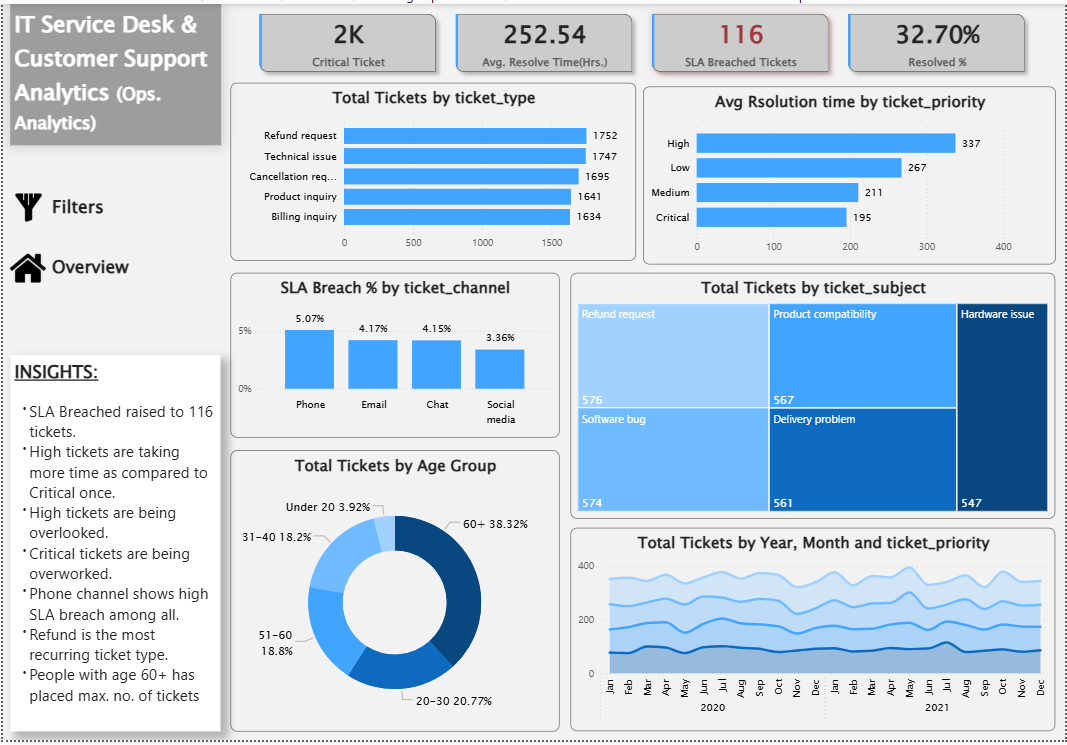

What the dashboard file says about the page in this screenshot:
{"tool":"powerbi","page":{"name":"Operational Analytics","canvas":[1300,900],"ordinal":1},"visuals":[{"type":"textbox","box":[8.8,0,257.9,172.9],"z":0},{"type":"cardVisual","fields":{"Data":["Measure_table.Critical Ticket","Measure_table.Avg Rsolution time","Measure_table.SLA Beached Tickets","Measure_table.Resolved %"]},"box":[277.2,0,1010.9,100.5],"z":1000},{"type":"clusteredBarChart","fields":{"Category":["cleaning_customer_support_tickets_v2.ticket_type"],"Y":["Measure_table.Total Tickets"]},"box":[278.5,96.5,495.9,217.4],"z":2000},{"type":"barChart","fields":{"Category":["cleaning_customer_support_tickets_v2.ticket_priority"],"Y":["Measure_table.Avg Rsolution time"]},"box":[782.7,100.7,505,217.8],"z":3000},{"type":"clusteredColumnChart","fields":{"Category":["cleaning_customer_support_tickets_v2.ticket_channel"],"Y":["Measure_table.SLA Breach %"]},"box":[278.2,328.6,402,201.8],"z":4000},{"type":"stackedAreaChart","fields":{"Category":["Date_Table.Year","Date_Table.Month"],"Series":["cleaning_customer_support_tickets_v2.ticket_priority"],"Y":["Measure_table.Total Tickets"]},"box":[694,640.5,593.1,249.2],"z":5000},{"type":"image","box":[7.6,227.8,47.4,42.8],"z":6000},{"type":"donutChart","fields":{"Category":["cleaning_customer_support_tickets_v2.Agr Group"],"Y":["Measure_table.Total Tickets"]},"box":[278.2,545.7,402,343.9],"z":7000},{"type":"treemap","fields":{"Group":["cleaning_customer_support_tickets_v2.ticket_subject"],"Values":["Measure_table.Total Tickets"]},"box":[694,328.6,593.1,301.1],"z":8000},{"type":"textbox","box":[9.2,429.5,256.8,460.1],"z":9000},{"type":"image","box":[7.6,301.1,45.9,44.3],"z":11000},{"type":"textbox","box":[55,227.8,210.9,42.8],"z":12000},{"type":"textbox","box":[55,301.1,210.9,44.3],"z":13000}]}

Visuals, with their boxes on the page's 1300x900 design canvas (x1, y1, x2, y2). These are canvas units, not pixel positions in the 1067x745 screenshot, which may show the page scaled, cropped or inside an application window:
textbox: left=9, top=0, right=267, bottom=173
cardVisual - Measure_table.Critical Ticket x Measure_table.Avg Rsolution time: left=277, top=0, right=1288, bottom=100
clusteredBarChart - cleaning_customer_support_tickets_v2.ticket_type x Measure_table.Total Tickets: left=278, top=96, right=774, bottom=314
barChart - cleaning_customer_support_tickets_v2.ticket_priority x Measure_table.Avg Rsolution time: left=783, top=101, right=1288, bottom=318
clusteredColumnChart - cleaning_customer_support_tickets_v2.ticket_channel x Measure_table.SLA Breach %: left=278, top=329, right=680, bottom=530
stackedAreaChart - Date_Table.Year x Date_Table.Month: left=694, top=640, right=1287, bottom=890
image: left=8, top=228, right=55, bottom=271
donutChart - cleaning_customer_support_tickets_v2.Agr Group x Measure_table.Total Tickets: left=278, top=546, right=680, bottom=890
treemap - cleaning_customer_support_tickets_v2.ticket_subject x Measure_table.Total Tickets: left=694, top=329, right=1287, bottom=630
textbox: left=9, top=430, right=266, bottom=890
image: left=8, top=301, right=54, bottom=345
textbox: left=55, top=228, right=266, bottom=271
textbox: left=55, top=301, right=266, bottom=345
